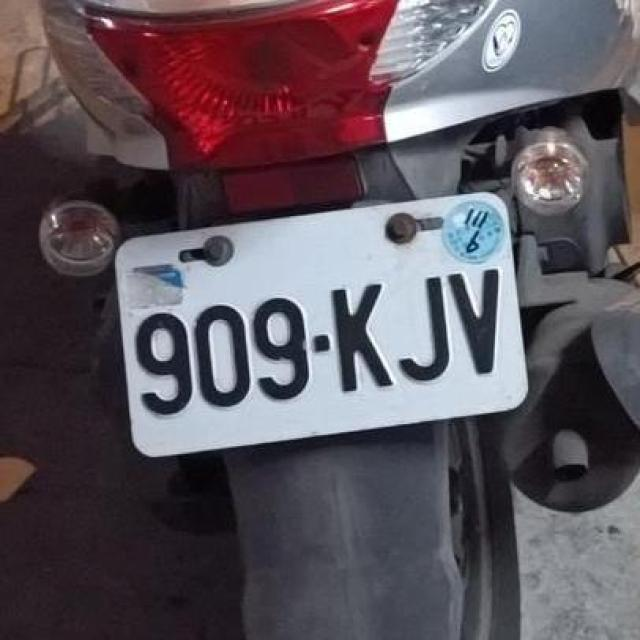W: (98, 154, 542, 473)
